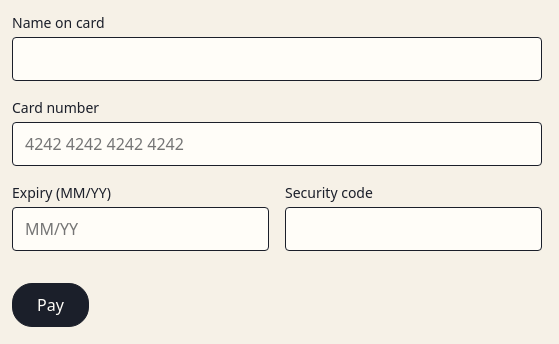
it: CardForm input helpers › keeps the last two year digits when a MM/YYYY expiry is pasted
The width and height of the screenshot is (559, 344).
Click the field labelled "Expiry (MM/YY)" at (140, 229), box left=12, top=207, right=269, bottom=251
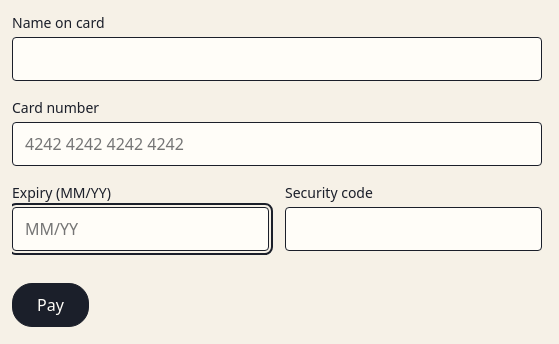
Type keys "12/2028"
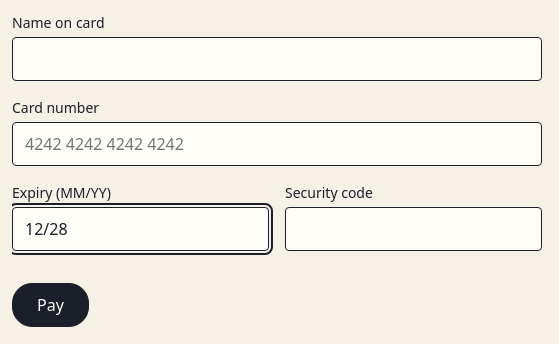
Expected: the field labelled "Expiry (MM/YY)" holds "12/28", left=12, top=207, right=269, bottom=251
